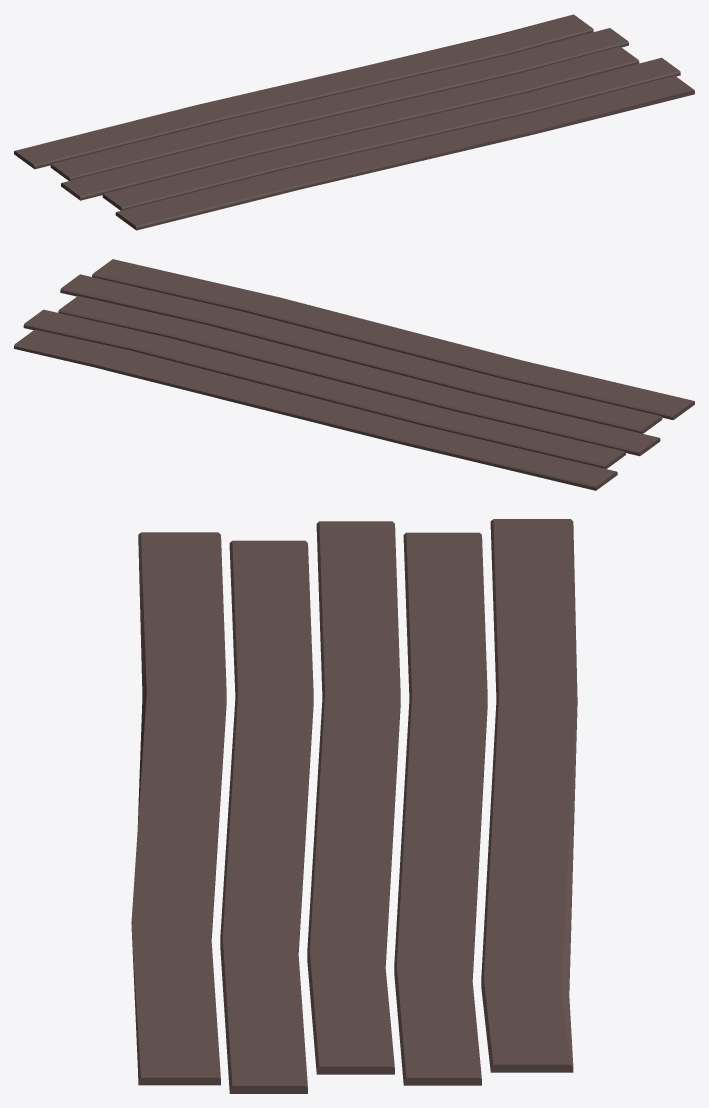
The model's file is Module_Building_Deck_Walkway.fbx.
The picture shows the model from 3 angles, top to bottom: view 1: azimuth 30°, elevation 25°; view 2: azimuth 150°, elevation 25°; view 3: azimuth 270°, elevation 25°; orthographic projection. The views are drawn at different scales.
Visible parts, largest first — view 1: Module_Building_Deck_Walkway; view 2: Module_Building_Deck_Walkway; view 3: Module_Building_Deck_Walkway.
Part boxes in pixels (x1,y1,x2,y2): Module_Building_Deck_Walkway: (14, 14, 694, 230); Module_Building_Deck_Walkway: (14, 259, 694, 490); Module_Building_Deck_Walkway: (131, 519, 577, 1093).
Bounding box in the file's own units: 308 × 2 × 103.
